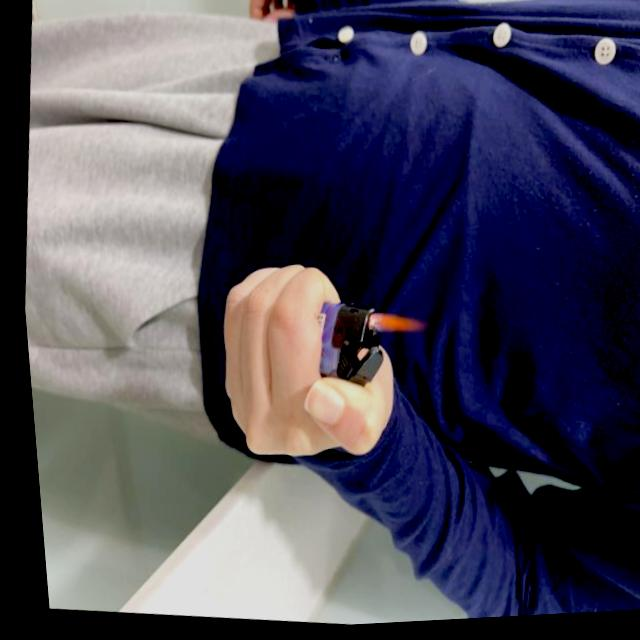Fire: (363, 312, 426, 342)
